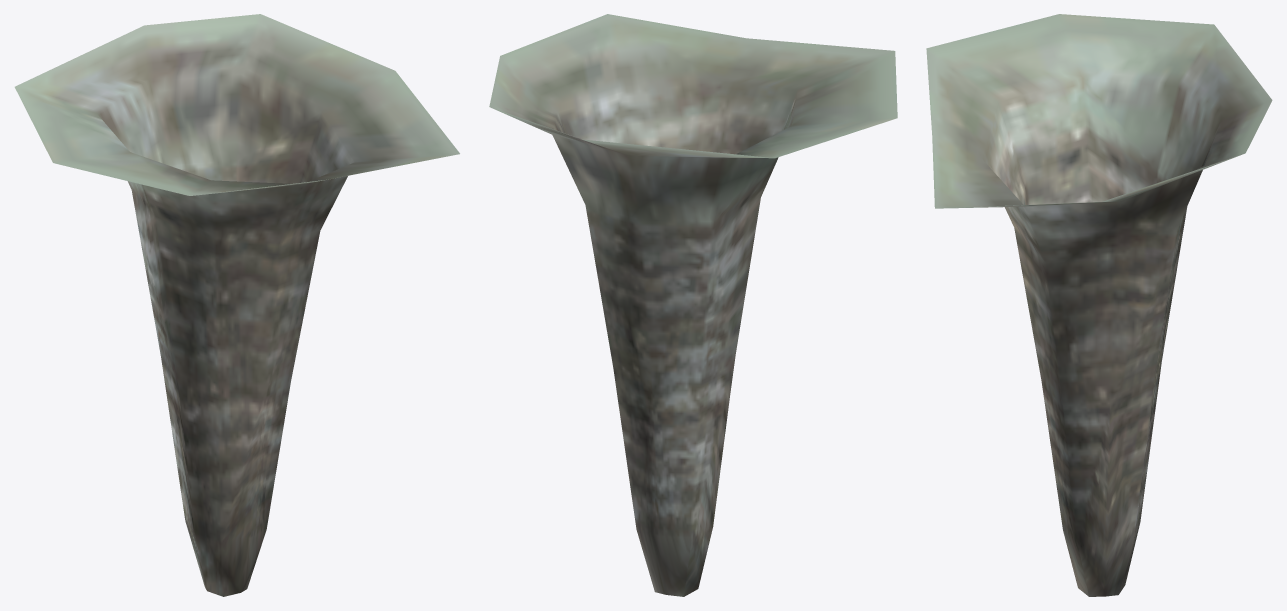
File: TROLLHOLE02_PS-MAINSTALAG78.fbx
3 renders of one model, left to right at view 1: azimuth 30°, elevation 25°; view 2: azimuth 150°, elevation 25°; view 3: azimuth 270°, elevation 25°, orthographic. The views are drawn at different scales.
Visible parts, largest first — view 1: TROLLHOLE02_PS-MAINSTALAG78; view 2: TROLLHOLE02_PS-MAINSTALAG78; view 3: TROLLHOLE02_PS-MAINSTALAG78.
Part boxes in pixels (bbox=[...]): TROLLHOLE02_PS-MAINSTALAG78: bbox=[14, 14, 459, 596]; TROLLHOLE02_PS-MAINSTALAG78: bbox=[489, 14, 897, 596]; TROLLHOLE02_PS-MAINSTALAG78: bbox=[926, 14, 1272, 596].
Size of the model in its own units: 18102 by 23965 by 15090.
Materials: 1 (1 with a texture image).
